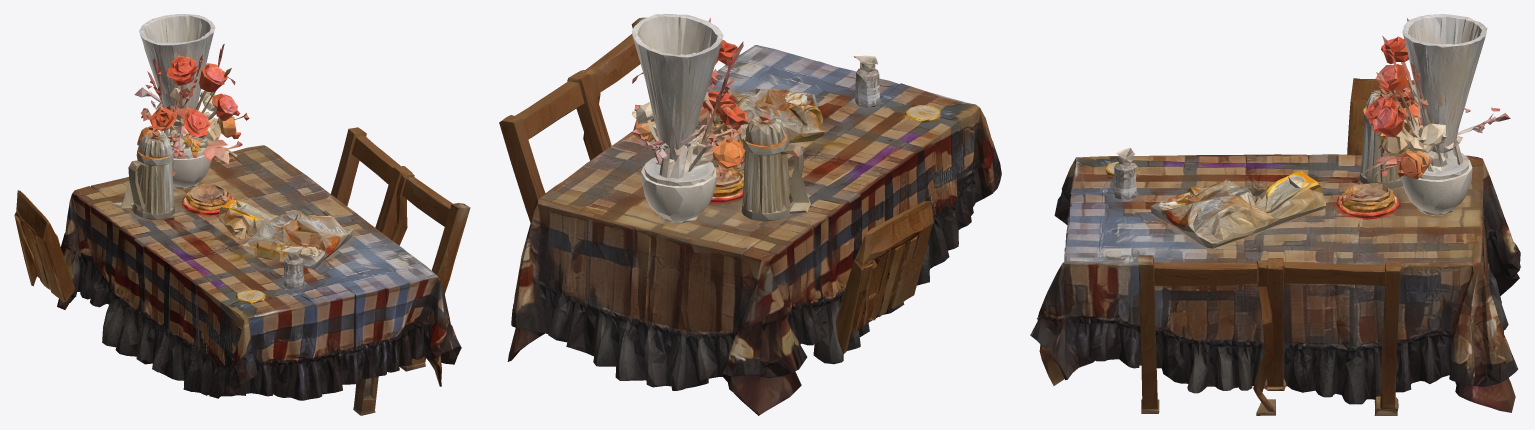
3 views of the same model, side by side, from view 1: azimuth 30°, elevation 25°; view 2: azimuth 150°, elevation 25°; view 3: azimuth 270°, elevation 25° (orthographic). The views are drawn at different scales.
Visible parts, largest first — view 1: model; view 2: model; view 3: model.
Boxes of the visible parts, x1=… form: model: x1=14, y1=14, x2=470, y2=415; model: x1=499, y1=14, x2=1001, y2=415; model: x1=1030, y1=14, x2=1520, y2=415.
Size of the model in its own units: 1.76 by 1.38 by 1.9.
Materials: 1 (1 with a texture image).
